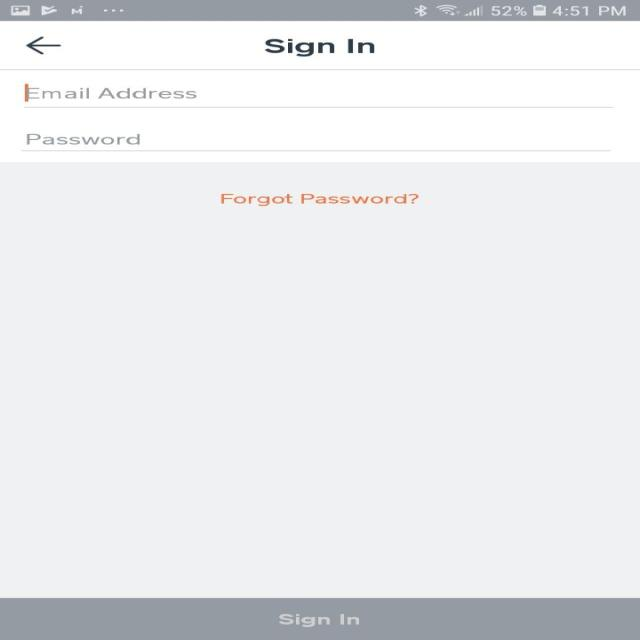EditText: (24, 84, 612, 108), (21, 134, 610, 151)
Icon: (24, 36, 62, 55)
Text: (220, 193, 418, 206), (264, 38, 374, 56), (27, 88, 196, 99), (26, 134, 140, 144)
TextButton: (0, 598, 639, 640)
